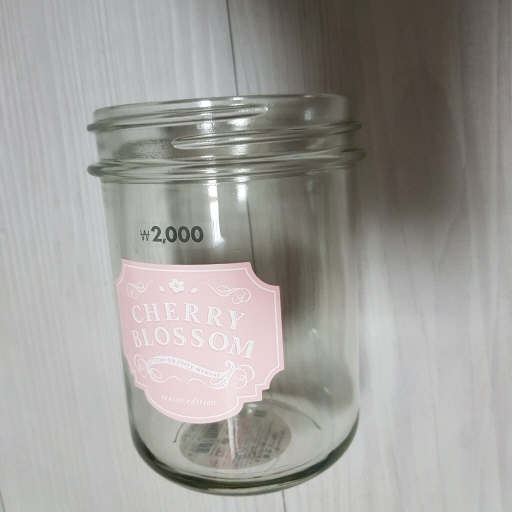Glass_5: (87, 91, 367, 497)
